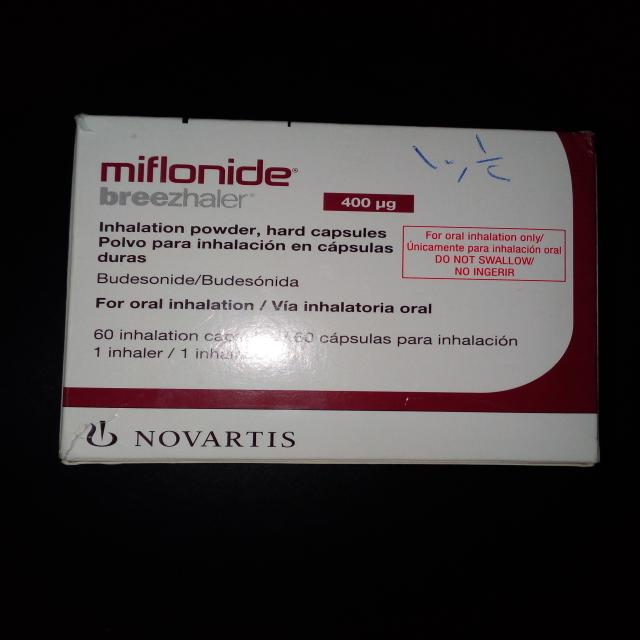Medicine: (72, 114, 602, 470)
